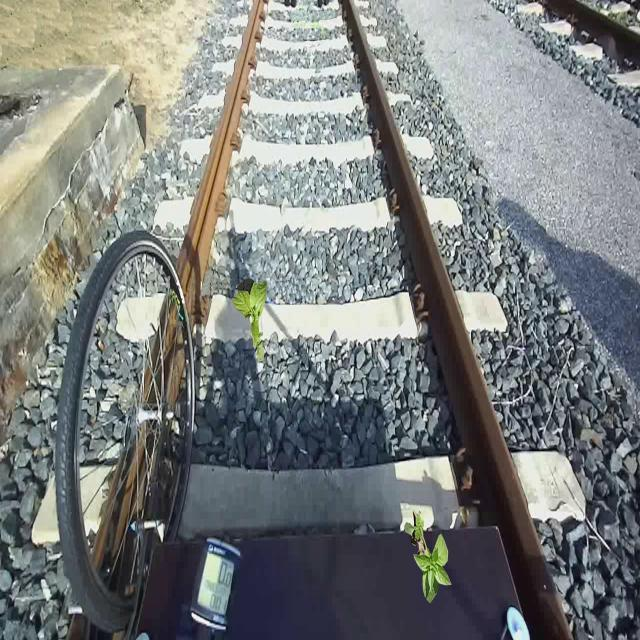Plant: (404, 509, 452, 604), (232, 279, 268, 362)
